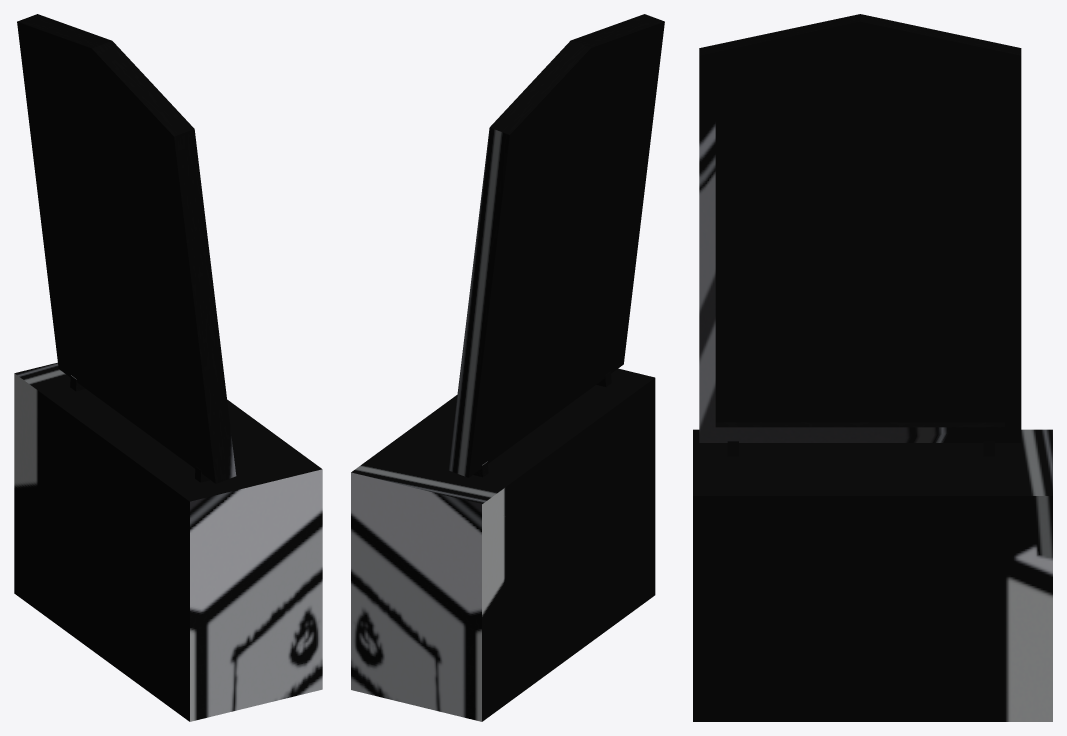
File: DressiingTable.fbx
3 views of the same model, side by side, from view 1: azimuth 30°, elevation 25°; view 2: azimuth 150°, elevation 25°; view 3: azimuth 270°, elevation 25° (orthographic). The views are drawn at different scales.
Visible parts, largest first — view 1: DressingTable; view 2: DressingTable; view 3: DressingTable.
Boxes of the visible parts, bbox=[...] form: DressingTable: bbox=[14, 14, 322, 721]; DressingTable: bbox=[351, 14, 664, 721]; DressingTable: bbox=[693, 14, 1052, 721].
Bounding box in the file's own units: 60.98 × 242 × 124.
